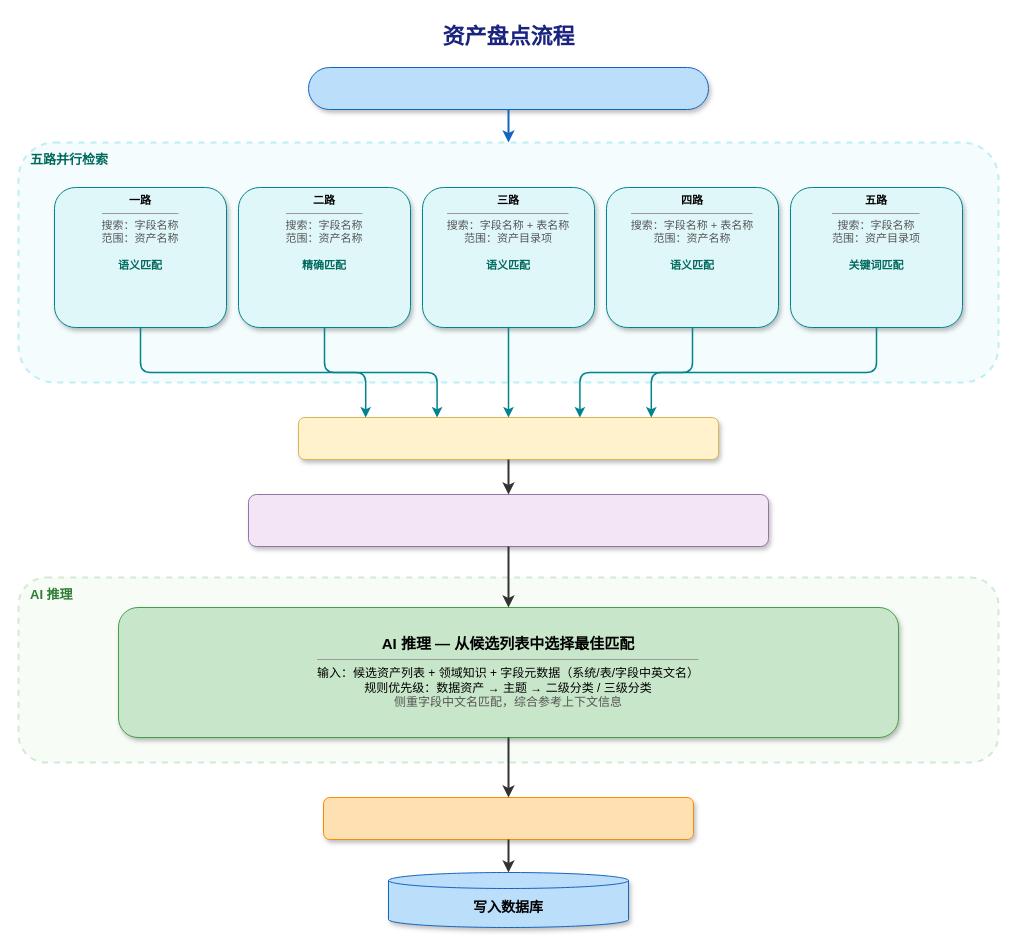
Image size: 1016x952. Some labels were removed from this diagram. Here are the shapes that lost their labels. From the top down, the centre of each, then its label:
the point at 509,89: 读取字段元数据（系统 / 表 / 字段 中英文名）
the point at 509,439: 候选资产列表合并 & 去重
the point at 509,522: 领域知识库检索 检索条件：字段名称 + 表名称
the point at 509,819: 输出 TOP1 资产目录
